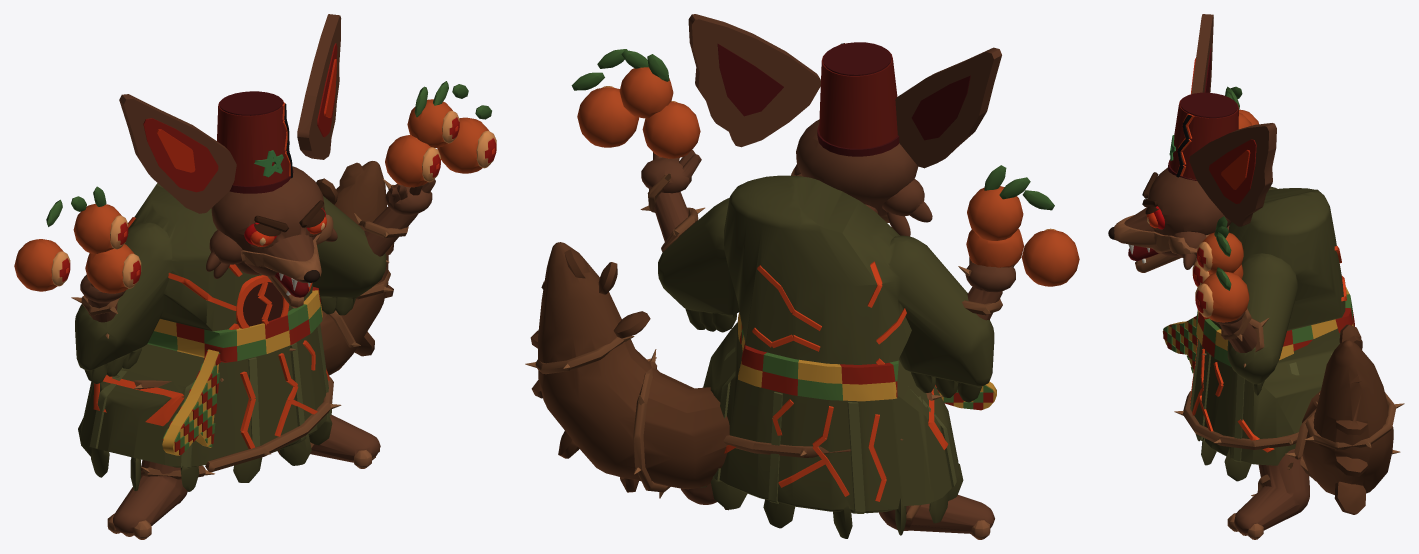
Rendered from clementar_majin.glb.
3 renders of one model, left to right at view 1: azimuth 30°, elevation 25°; view 2: azimuth 150°, elevation 25°; view 3: azimuth 270°, elevation 25°, orthographic. The views are drawn at different scales.
Parts seen in each view (by area): view 1: creature; view 2: creature; view 3: creature.
Boxes of the visible parts, left/top/right/bottom form: creature: left=14, top=14, right=496, bottom=539; creature: left=525, top=14, right=1079, bottom=539; creature: left=1108, top=14, right=1404, bottom=539.
Size of the model in its own units: 1.11 by 1 by 0.6656.
